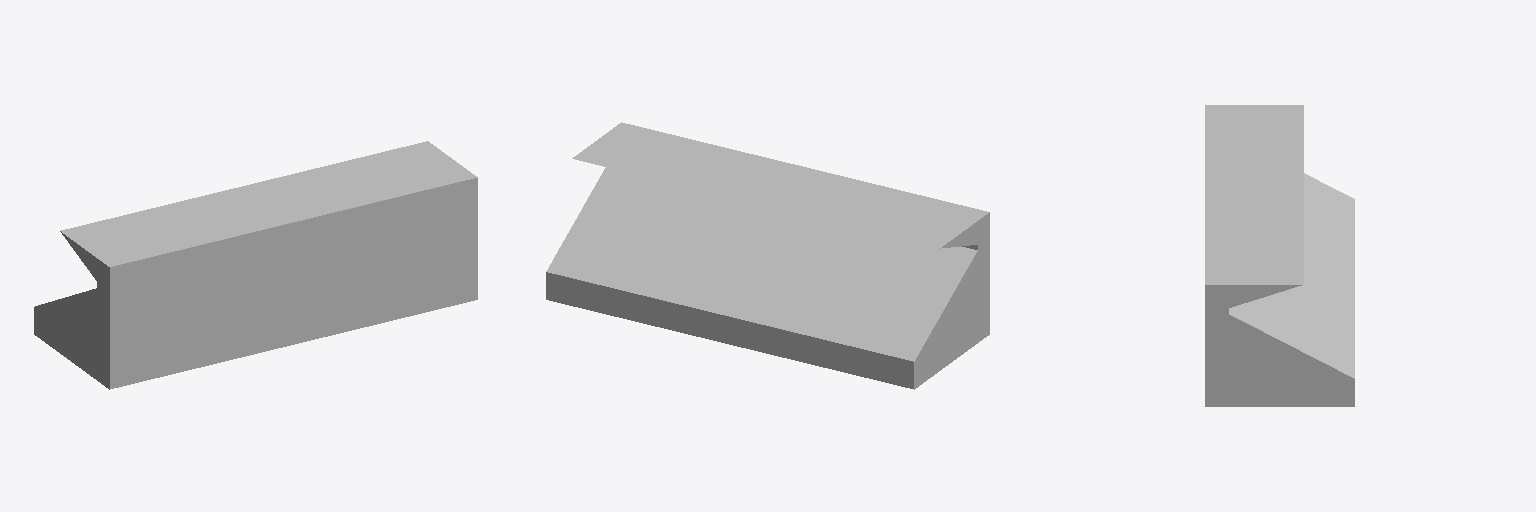
The model's file is disp_gradin.obj.
3 renders of one model, left to right at view 1: azimuth 30°, elevation 25°; view 2: azimuth 150°, elevation 25°; view 3: azimuth 270°, elevation 25°, orthographic.
Parts seen in each view (by area): view 1: disp_gradin.001_Cube.002; view 2: disp_gradin.001_Cube.002; view 3: disp_gradin.001_Cube.002.
Boxes of the visible parts, <box> form: disp_gradin.001_Cube.002: <box>34,141,477,389</box>; disp_gradin.001_Cube.002: <box>546,122,989,389</box>; disp_gradin.001_Cube.002: <box>1205,105,1354,406</box>.
Bounding box in the file's own units: 143 × 45.33 × 50.62.